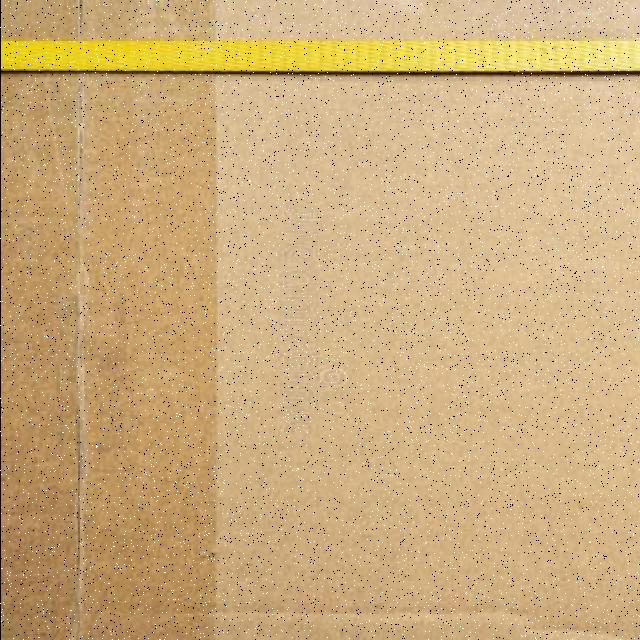normal: (9, 1, 638, 638)
